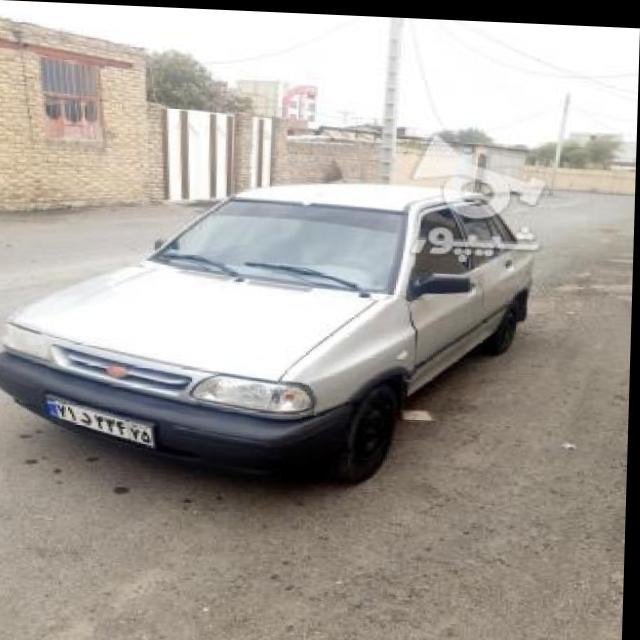licence: (47, 390, 159, 446)
